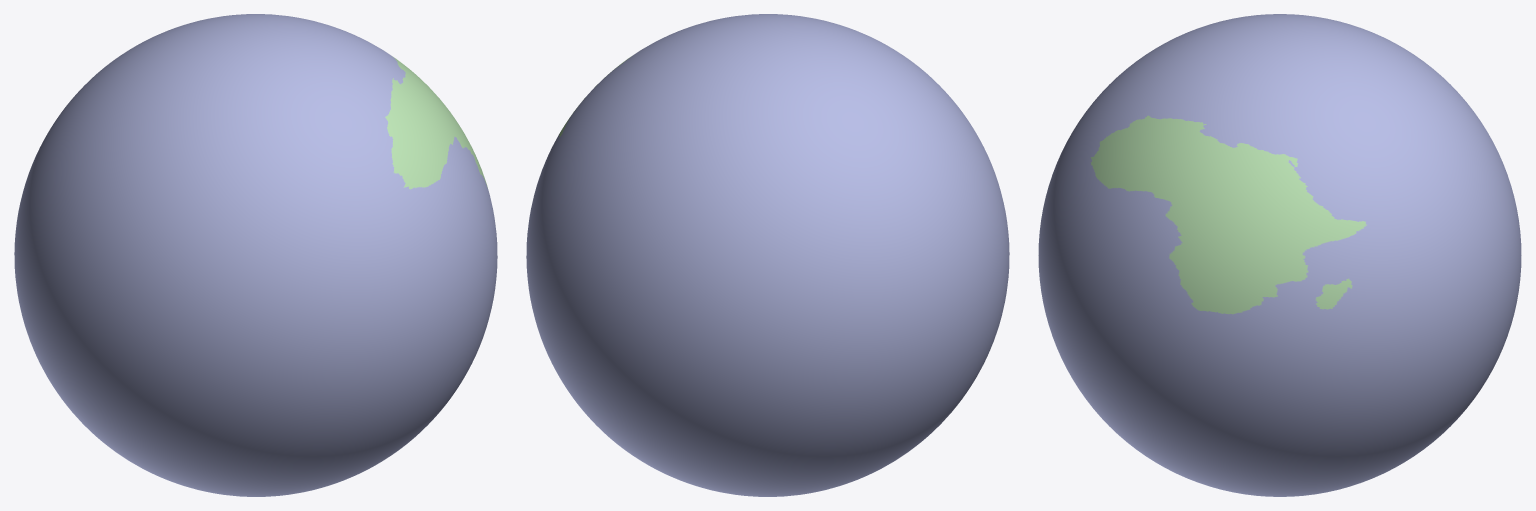
Rendered from BigSphere2.obj.
The picture shows the model from 3 angles, left to right: view 1: azimuth 30°, elevation 25°; view 2: azimuth 150°, elevation 25°; view 3: azimuth 270°, elevation 25°; orthographic projection.
Visible parts, largest first — view 1: Sphere001.001; view 2: Sphere001.001; view 3: Sphere001.001.
Boxes of the visible parts, <box> form: Sphere001.001: <box>14,14,497,496</box>; Sphere001.001: <box>526,14,1009,496</box>; Sphere001.001: <box>1038,14,1521,496</box>.
Size of the model in its own units: 10 by 10 by 10.
1 material, 1 textured.
